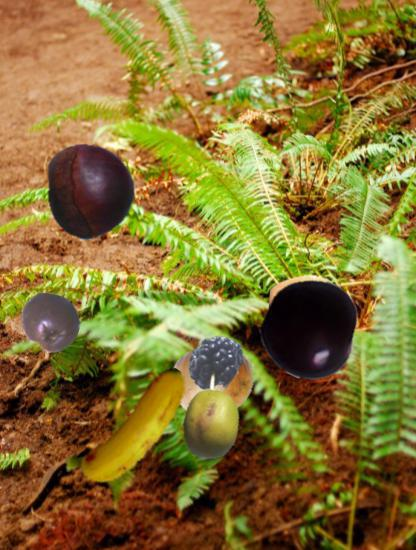Banana: (56, 352, 202, 498)
Cherry: (260, 278, 361, 379)
Chestnut: (44, 144, 140, 240)
Kumquats: (269, 266, 339, 336)
Mulberry: (172, 322, 244, 394)
Onion: (170, 339, 256, 425)
Passion: (19, 292, 80, 353)
Pomelo: (176, 389, 247, 460)
